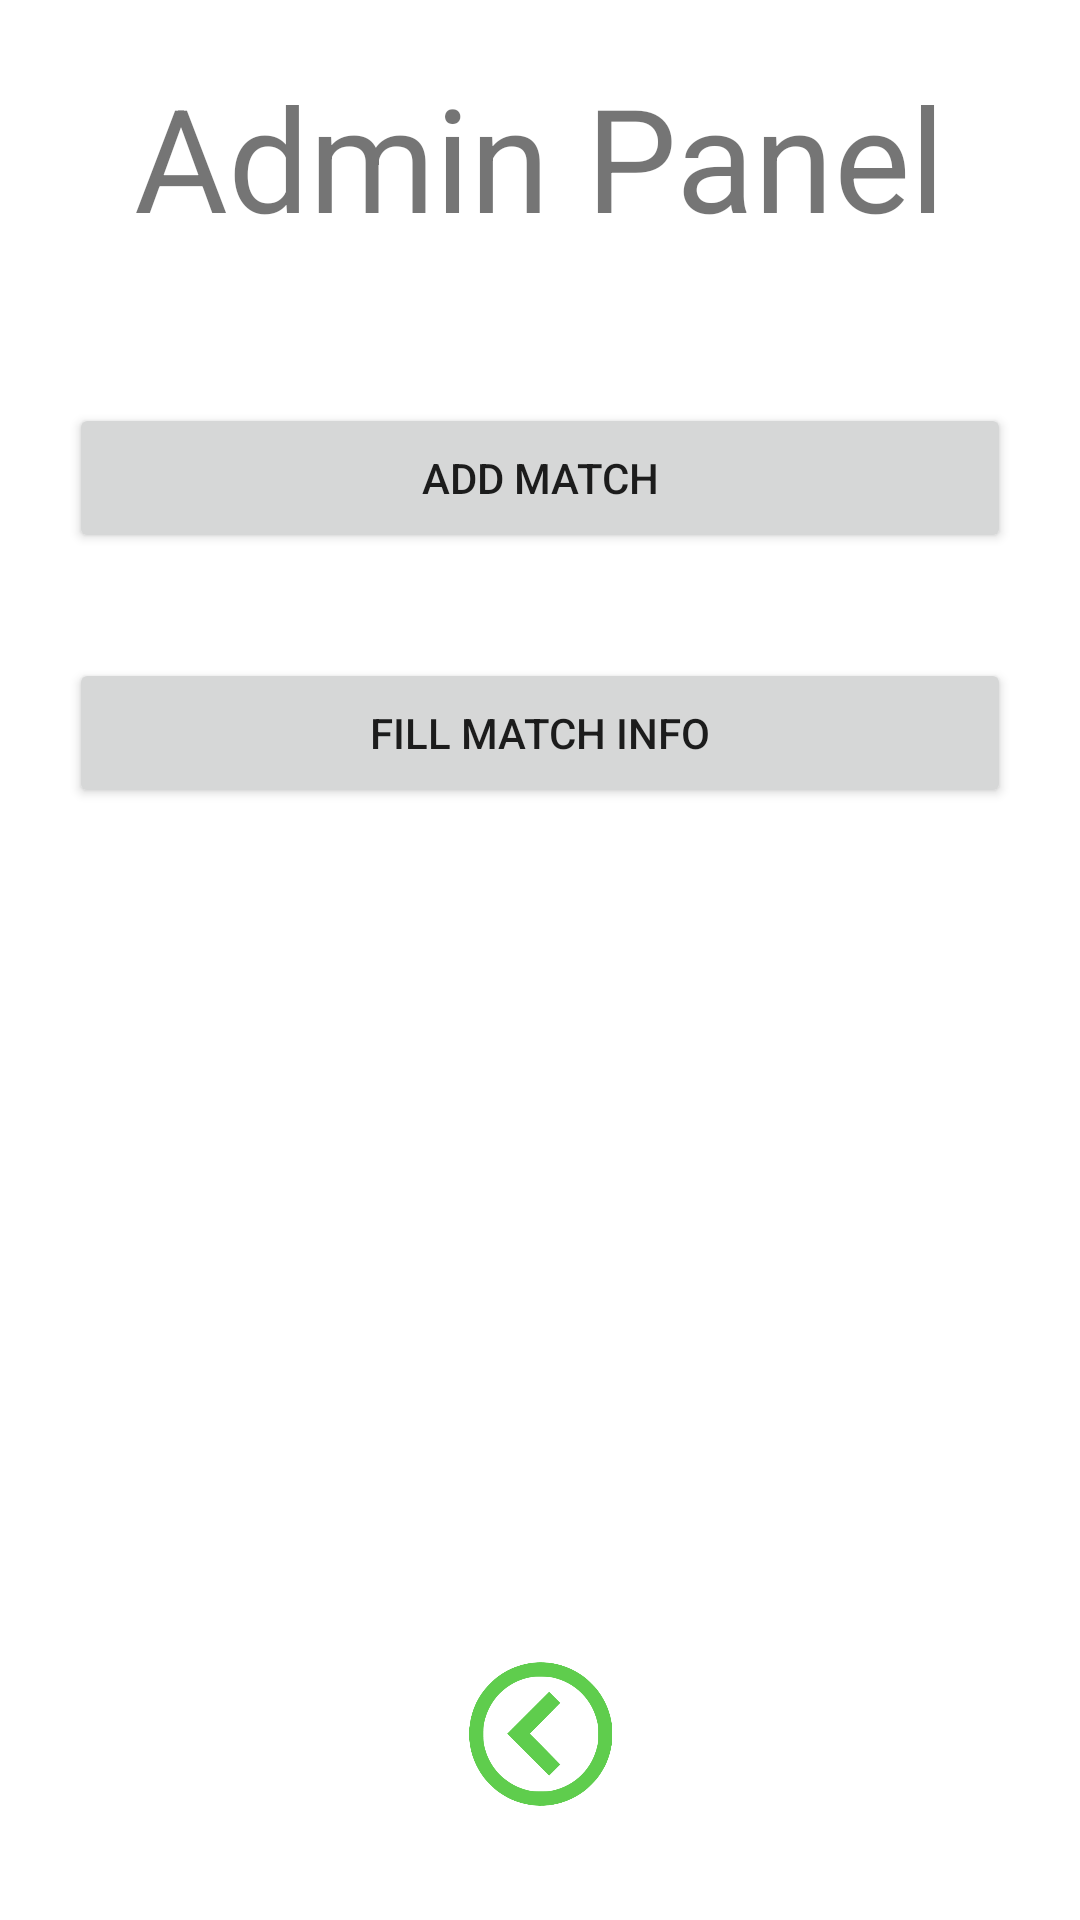

Where icons sit on this 1080*1920 app screen, as (x1, y1, x2, y2):
back: (469, 1662, 612, 1806)
